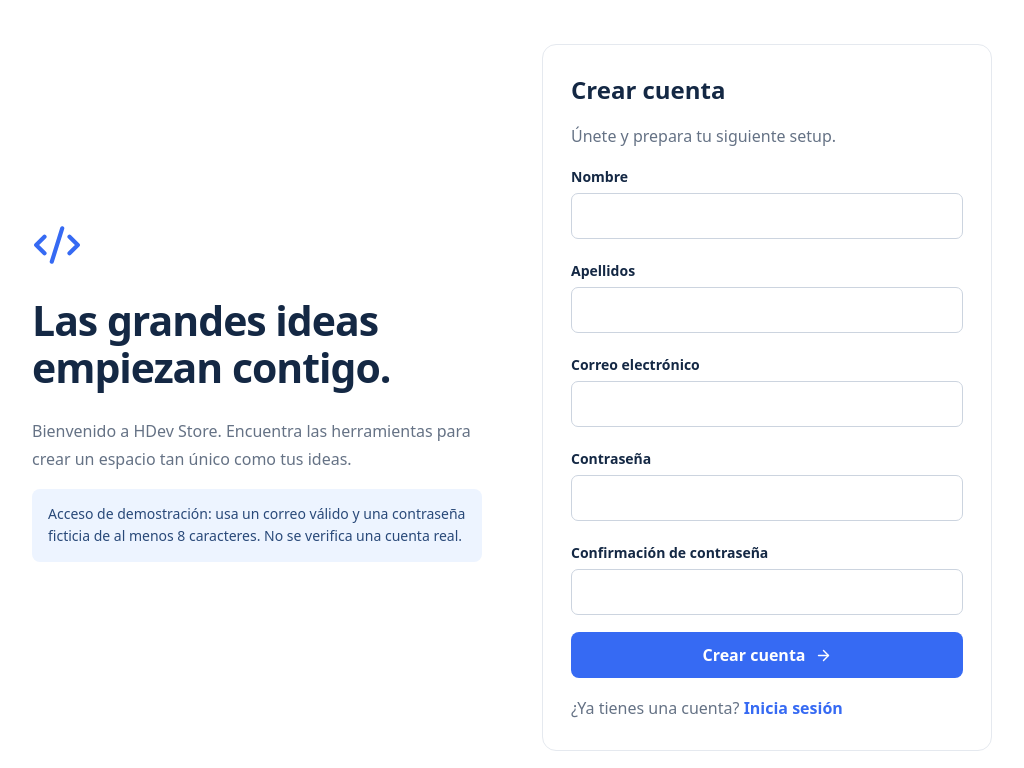
it: Register › muestra campos y valida contraseñas coincidentes
Expected: the field labelled "Nombre" is shown, [571,193,963,239]
Expected: the field labelled "Apellidos" is shown, [571,287,963,333]
Type "ejemplo123" into the password field labelled "Contraseña". click: (767, 498)
box: [571,475,963,521]
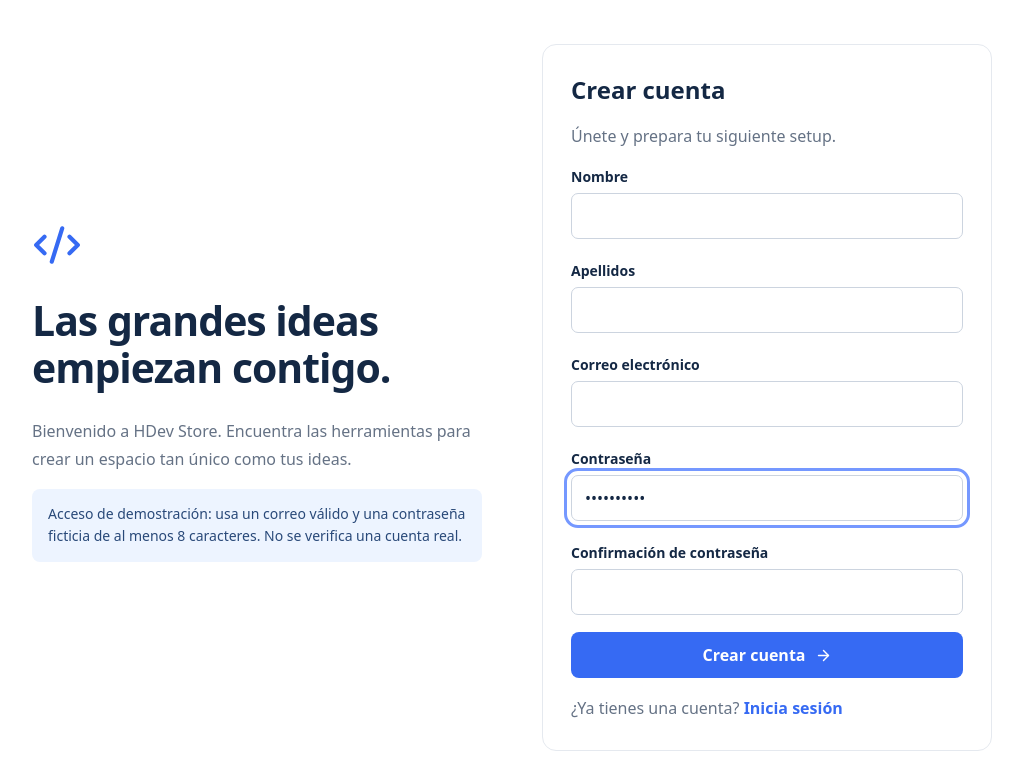
Type "otra12345" into the password field labelled "Confirmación de contraseña". click: (767, 592)
box: [571,569,963,615]
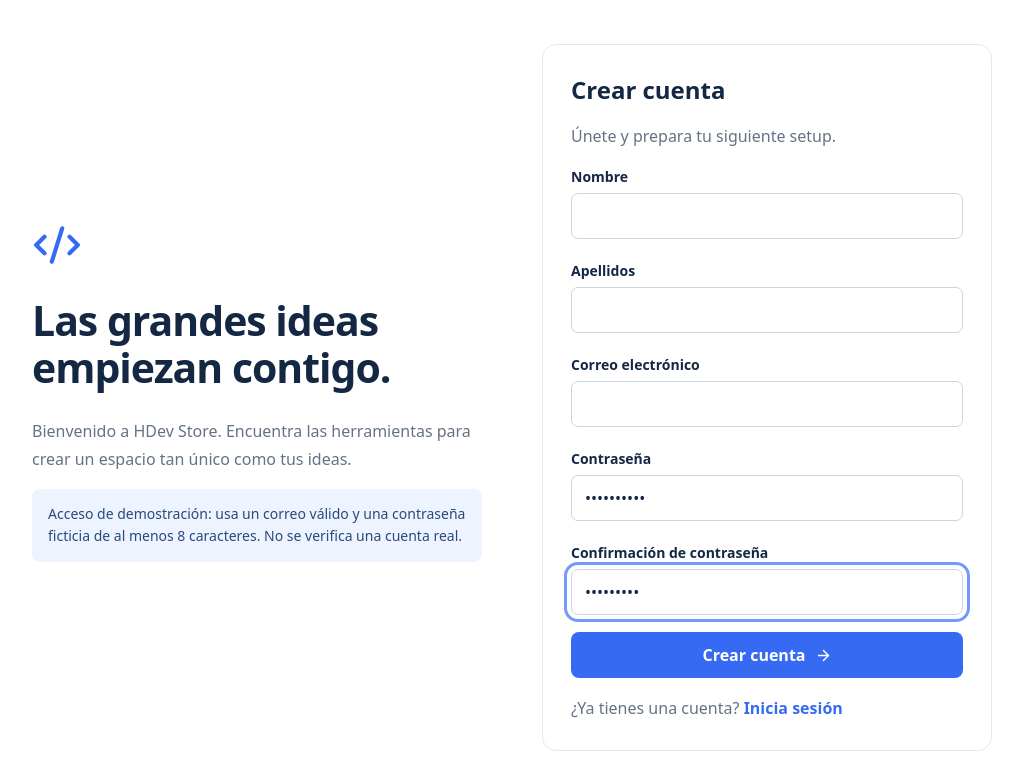
Click the button "Crear cuenta". click: (767, 655)
box: [571,632,963,678]
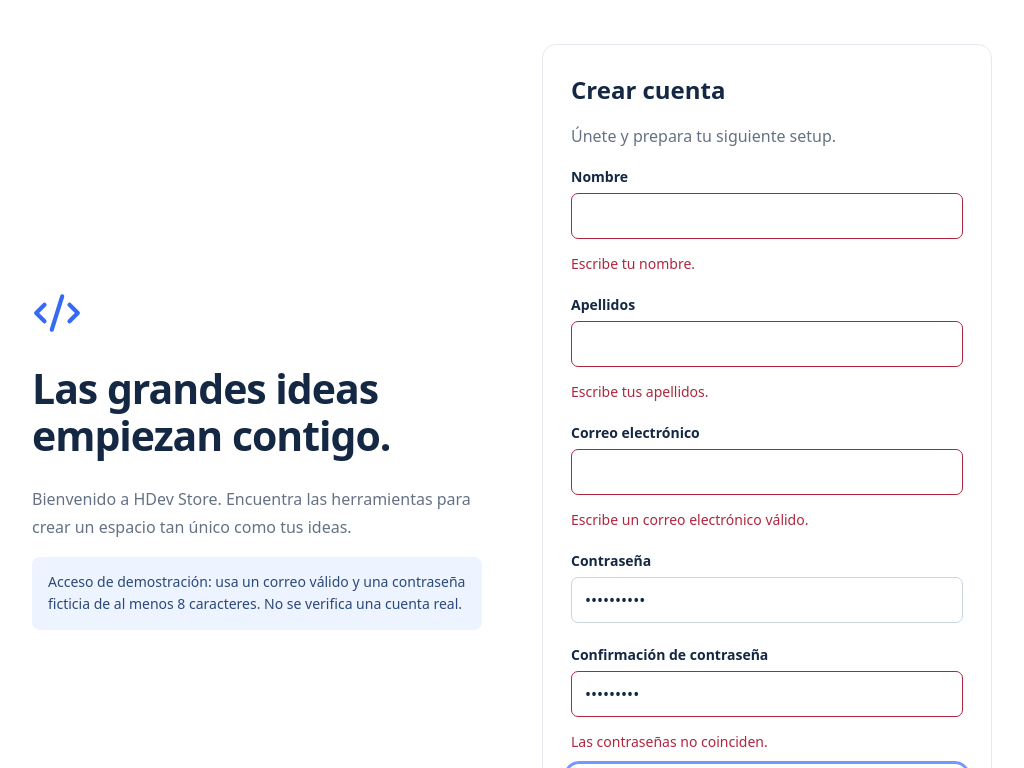
Expected: the text "Las contraseñas no coinciden." is shown, [571,732,768,751]
